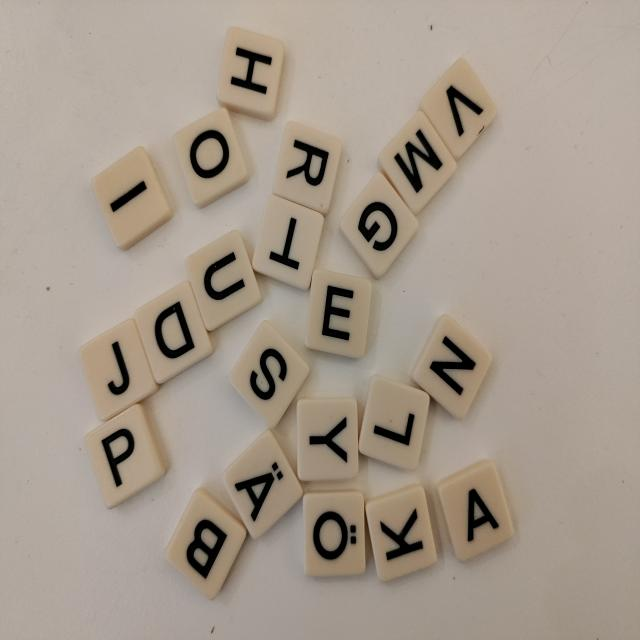a: (434, 456, 516, 564)
a_dot: (221, 427, 304, 542)
b: (161, 484, 249, 603)
d: (132, 279, 215, 388)
e: (303, 268, 373, 360)
g: (336, 170, 421, 282)
h: (213, 25, 287, 124)
i: (90, 143, 175, 254)
j: (77, 317, 160, 424)
k: (365, 482, 438, 584)
l: (355, 374, 431, 474)
m: (377, 110, 459, 218)
n: (409, 312, 495, 424)
o: (172, 106, 251, 211)
o_dot: (303, 490, 367, 576)
p: (82, 400, 168, 512)
r: (271, 119, 343, 217)
s: (227, 318, 312, 433)
t: (251, 193, 326, 293)
u: (183, 229, 264, 334)
v: (417, 56, 499, 164)
y: (296, 398, 359, 481)
